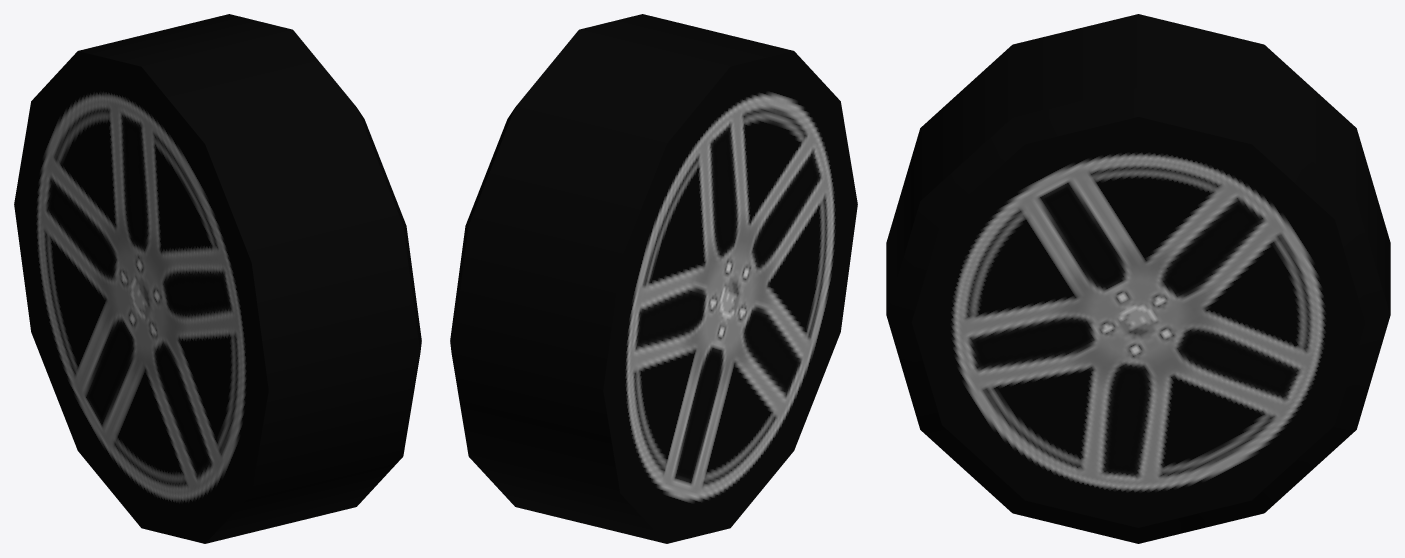
File: WheelHighPerformance.FBX
3 renders of one model, left to right at view 1: azimuth 30°, elevation 25°; view 2: azimuth 150°, elevation 25°; view 3: azimuth 270°, elevation 25°, orthographic.
Visible parts, largest first — view 1: wheelHighPerformance001; view 2: wheelHighPerformance001; view 3: wheelHighPerformance001.
Part boxes in pixels (x1,y1,x2,y2): wheelHighPerformance001: (14, 14, 421, 543); wheelHighPerformance001: (450, 14, 857, 543); wheelHighPerformance001: (886, 14, 1390, 543).
Size of the model in its own units: 30.16 by 80.24 by 80.24.
